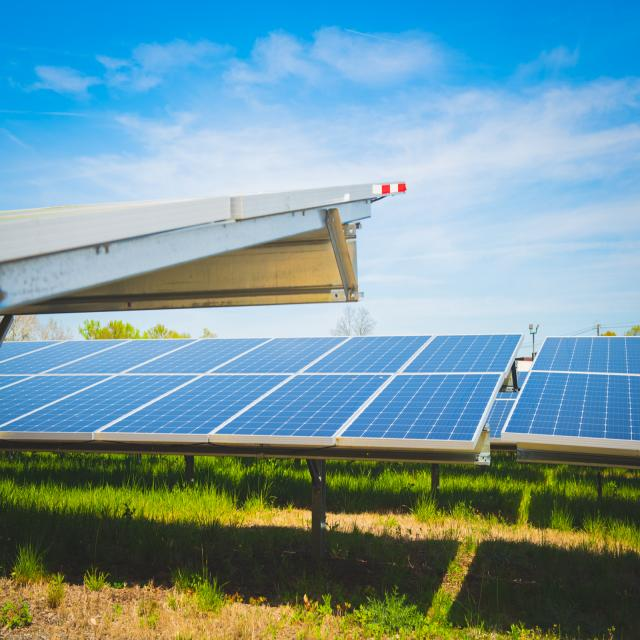clean-solar-panel: (0, 336, 522, 446), (501, 337, 640, 461)
